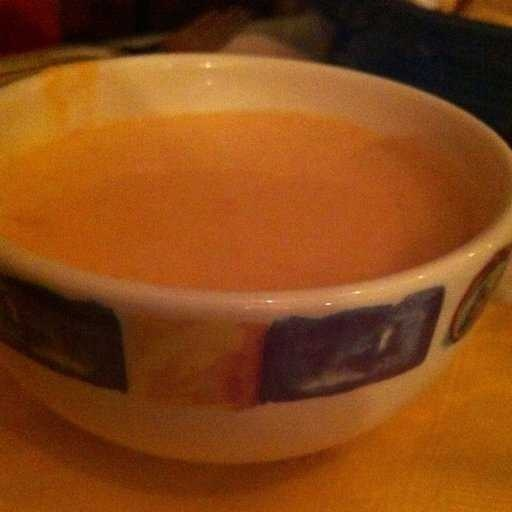soup: (1, 57, 496, 374)
